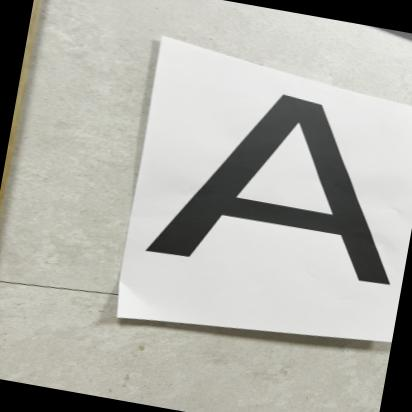seat: (128, 67, 412, 329)
